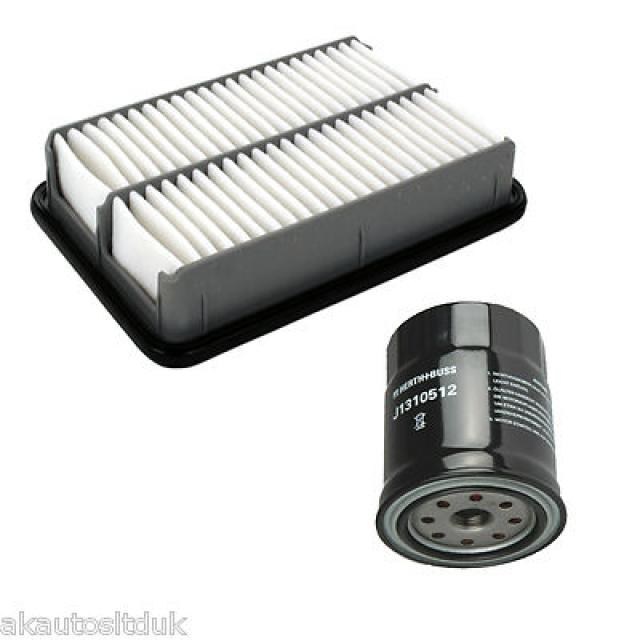air_filter: (8, 26, 562, 402)
oil_filter: (381, 297, 574, 573)
